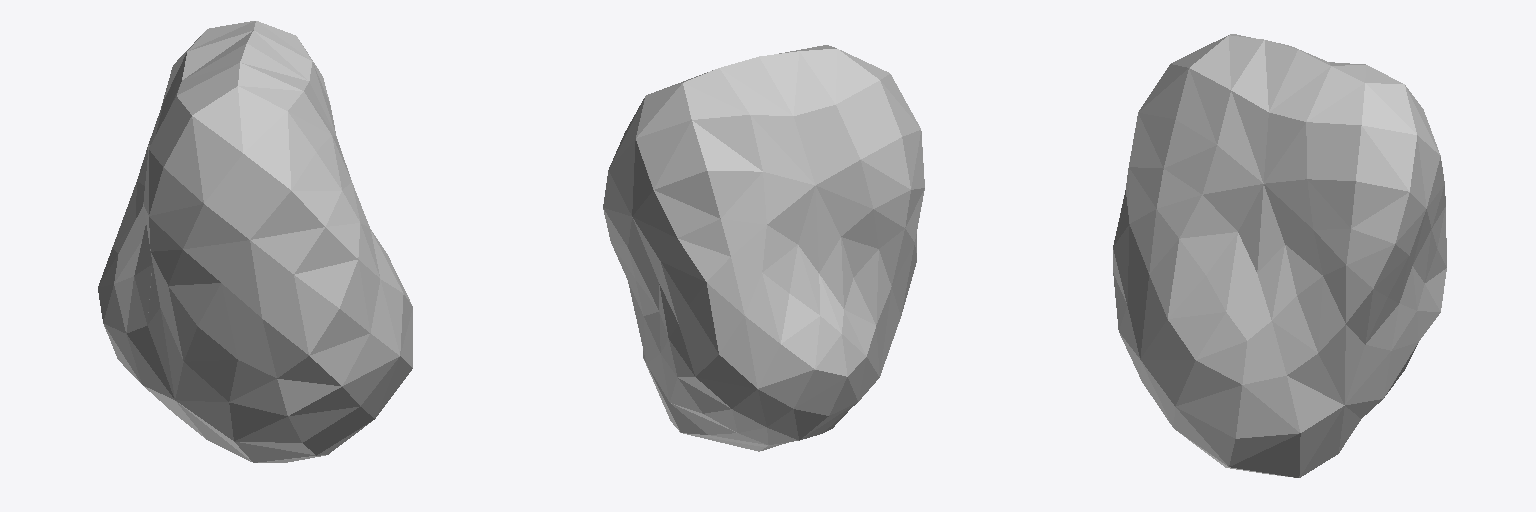
The model's file is snow.obj.
3 renders of one model, left to right at view 1: azimuth 30°, elevation 25°; view 2: azimuth 150°, elevation 25°; view 3: azimuth 270°, elevation 25°, orthographic.
Parts seen in each view (by area): view 1: rock.009; view 2: rock.009; view 3: rock.009.
Part boxes in pixels (x1,y1,x2,y2): rock.009: (98, 21, 412, 462); rock.009: (603, 45, 924, 451); rock.009: (1113, 34, 1446, 477).
Size of the model in its own units: 1.89 by 2.98 by 2.19.